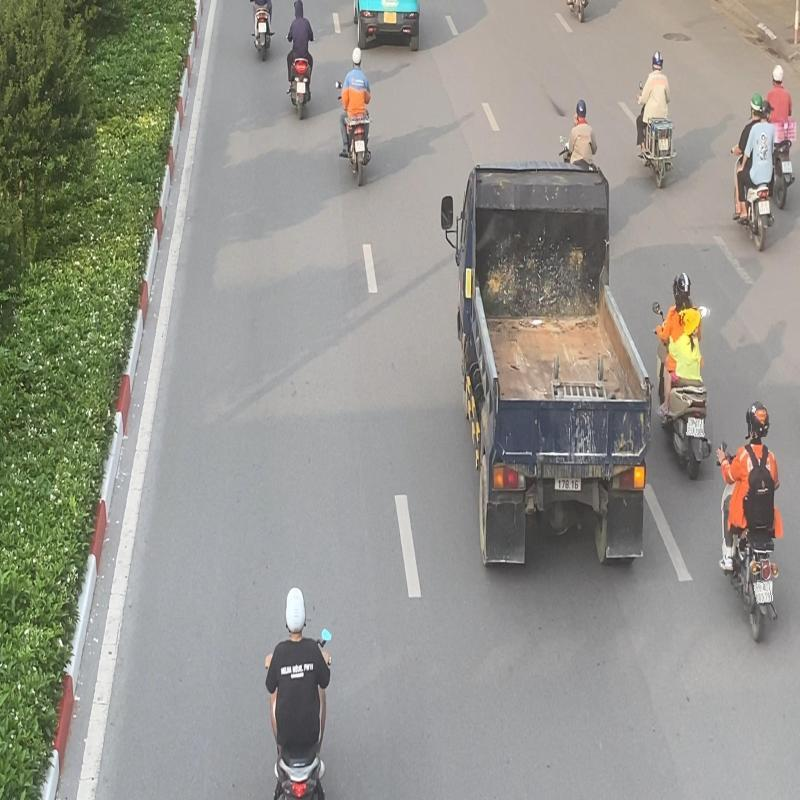helmet: (749, 401, 771, 438), (677, 274, 691, 296)
licenseplate: (754, 580, 772, 606), (686, 418, 702, 439)
motorcyclist: (714, 399, 788, 648), (650, 270, 714, 481)
nohelmet: (682, 308, 702, 335)
